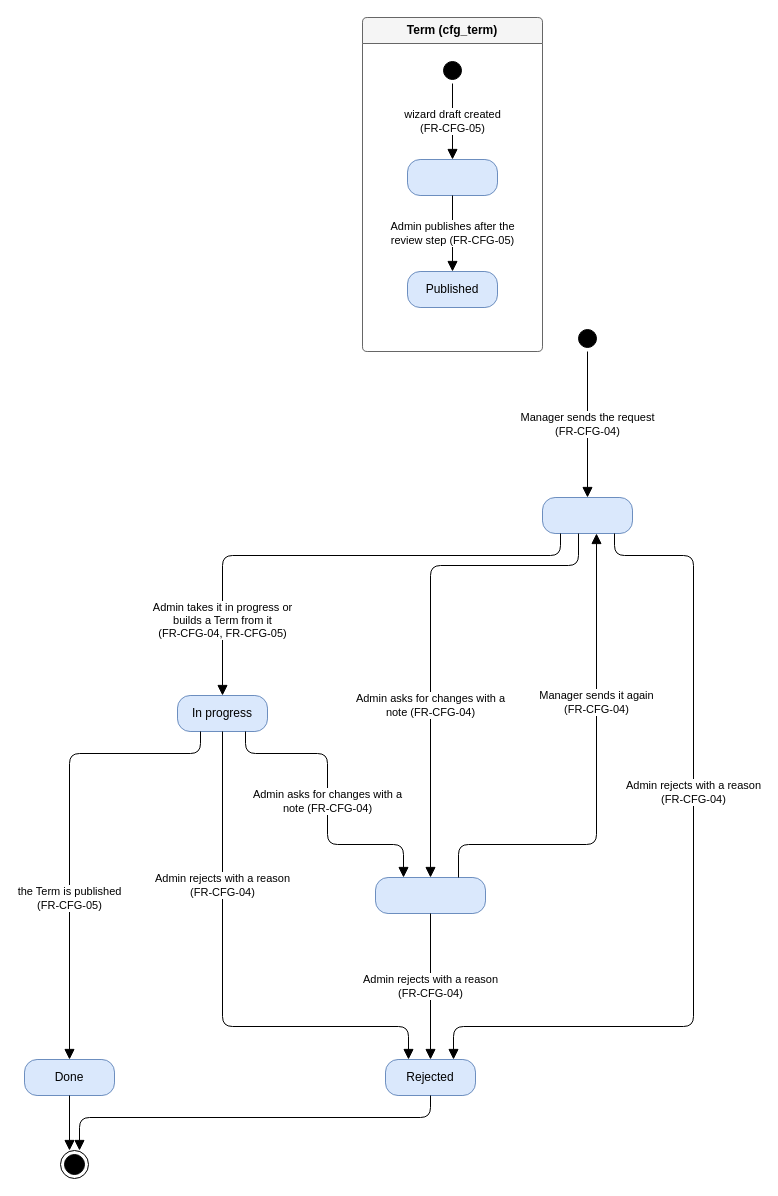
The diagram is 778 pixels wide and 1196 high, and some of its shapes have lost their labels. The centre of each missing label's shape, as x and y in pixels:
Draft: (452,177)
Needs changes: (430,895)
Submitted: (587,515)
